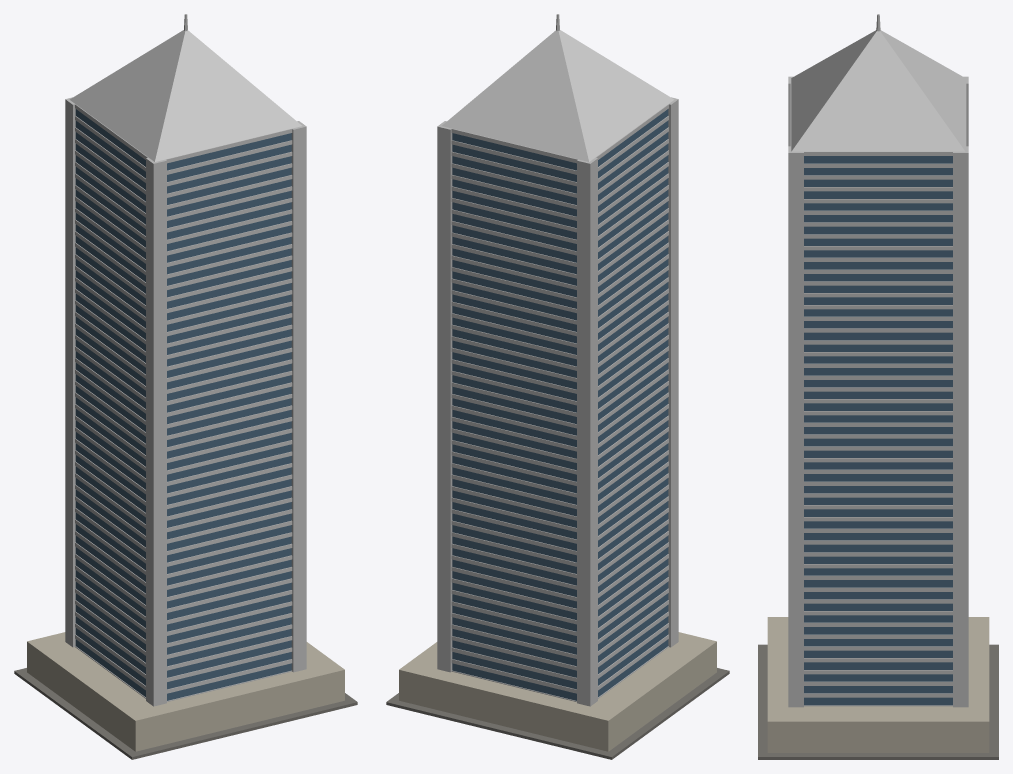
File: one_canada_square.glb
3 views of the same model, side by side, from view 1: azimuth 30°, elevation 25°; view 2: azimuth 150°, elevation 25°; view 3: azimuth 270°, elevation 25° (orthographic). The views are drawn at different scales.
Parts seen in each view (by area): view 1: one_canada_square; view 2: one_canada_square; view 3: one_canada_square.
Part boxes in pixels (x1=…): one_canada_square: x1=14, y1=14, x2=357, y2=759; one_canada_square: x1=386, y1=14, x2=729, y2=759; one_canada_square: x1=758, y1=14, x2=998, y2=759.
Size of the model in its own units: 84 by 240 by 76.
